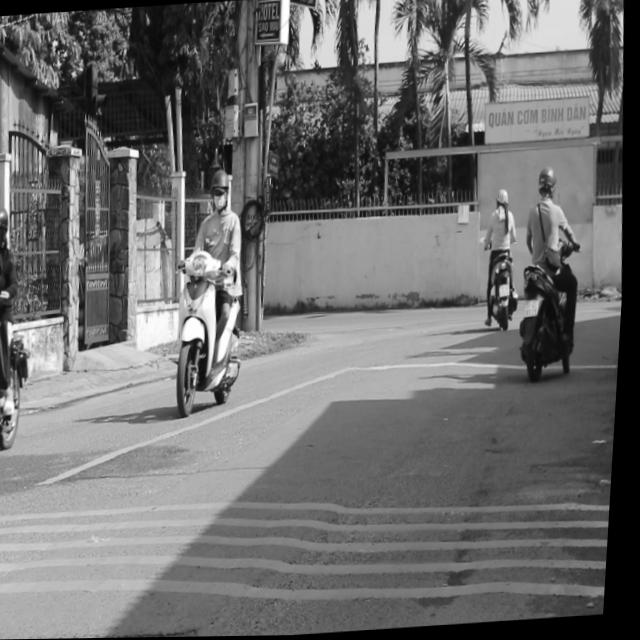helmet: (209, 167, 235, 212), (536, 167, 559, 204), (0, 206, 12, 249)
licenseplate: (164, 165, 261, 419), (511, 164, 593, 380), (0, 201, 44, 461)
nohelmet: (525, 300, 543, 319)
